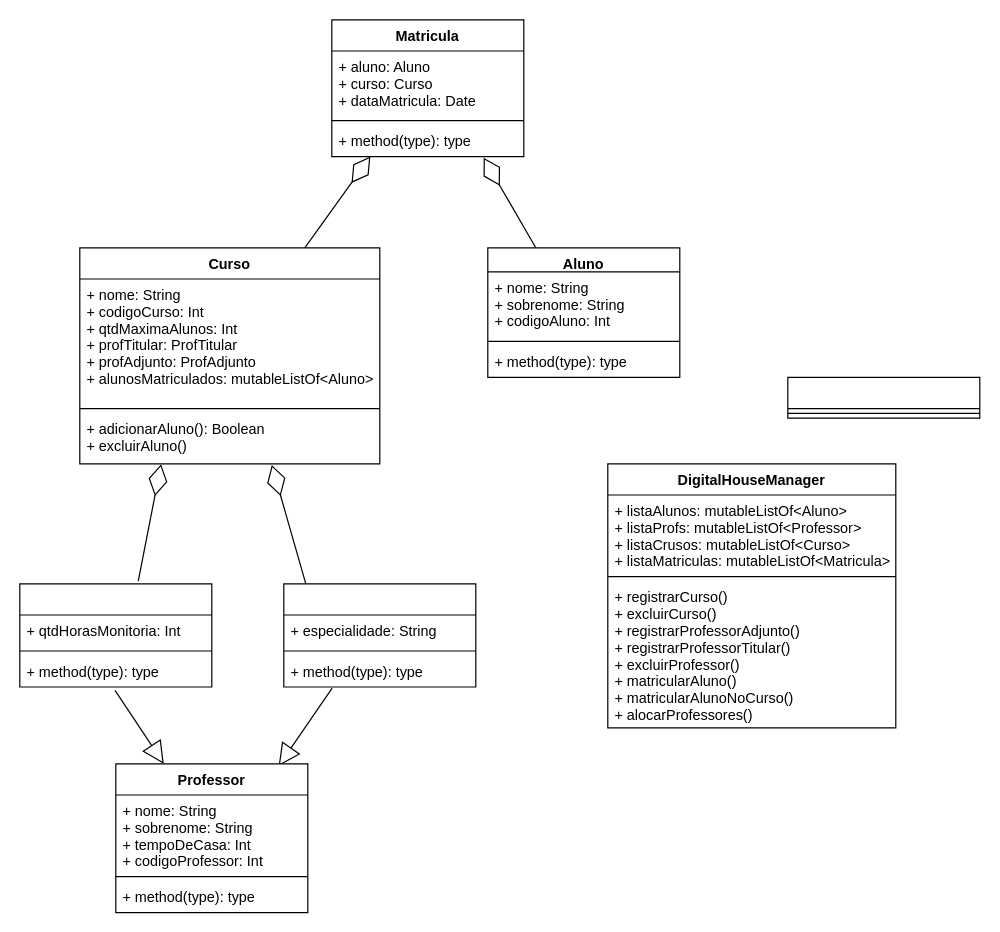
The diagram is 1000 pixels wide and 932 high, and some of its shapes have lost their labels. The shapes that lost their labels are listed below. From the top down, each one's box as (x1, y1, x2, y2) in pixels, then its label:
(787, 376, 980, 418): Principal
(19, 583, 212, 687): ProfAdjunto
(283, 583, 476, 687): ProfTitular
